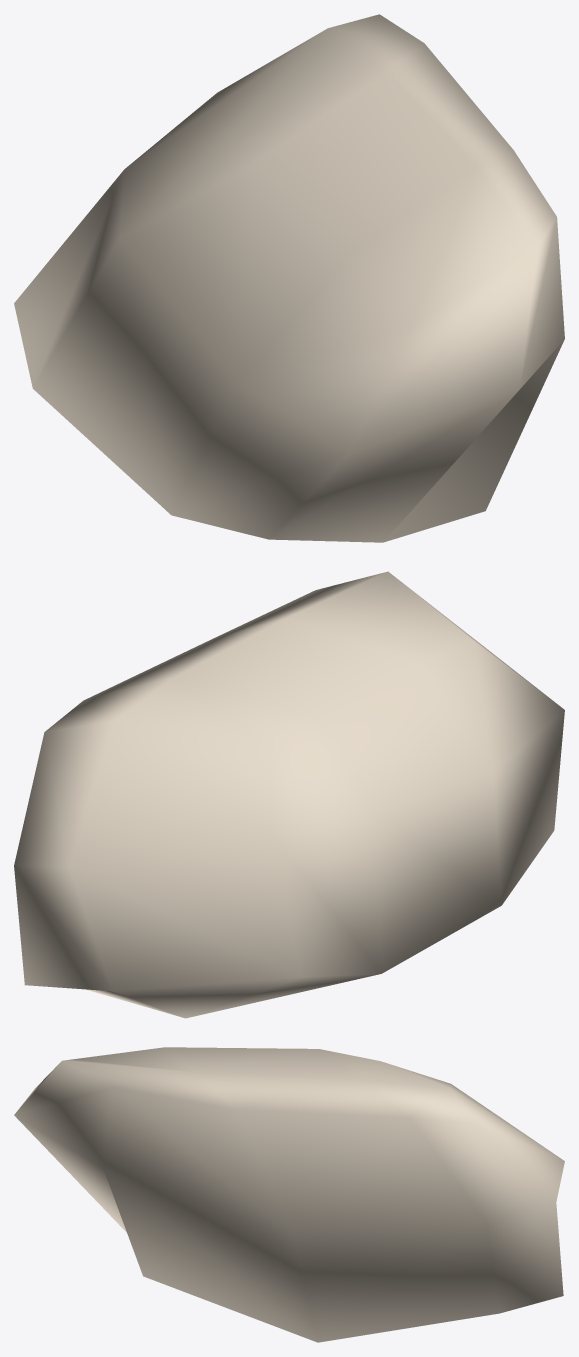
Rendered from rock04_v001.fbx.
The picture shows the model from 3 angles, top to bottom: view 1: azimuth 30°, elevation 25°; view 2: azimuth 150°, elevation 25°; view 3: azimuth 270°, elevation 25°; orthographic projection. The views are drawn at different scales.
Parts seen in each view (by area): view 1: pCube2; view 2: pCube2; view 3: pCube2.
Part boxes in pixels (x1,y1,x2,y2): pCube2: [14, 14, 564, 542]; pCube2: [14, 571, 564, 1018]; pCube2: [14, 1047, 564, 1342].
Size of the model in its own units: 113 by 97.97 by 188.
